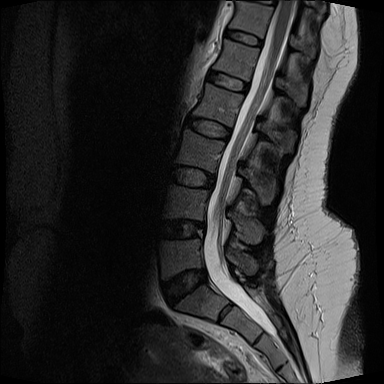Lumbar Disc Bulge (LDB): (162, 262, 211, 311), (157, 216, 209, 244), (167, 163, 217, 192)
Normal IVD: (203, 67, 253, 98), (184, 114, 234, 144), (223, 26, 265, 51)
Spinal Stenosis (SS): (203, 166, 223, 193), (194, 213, 210, 241)
